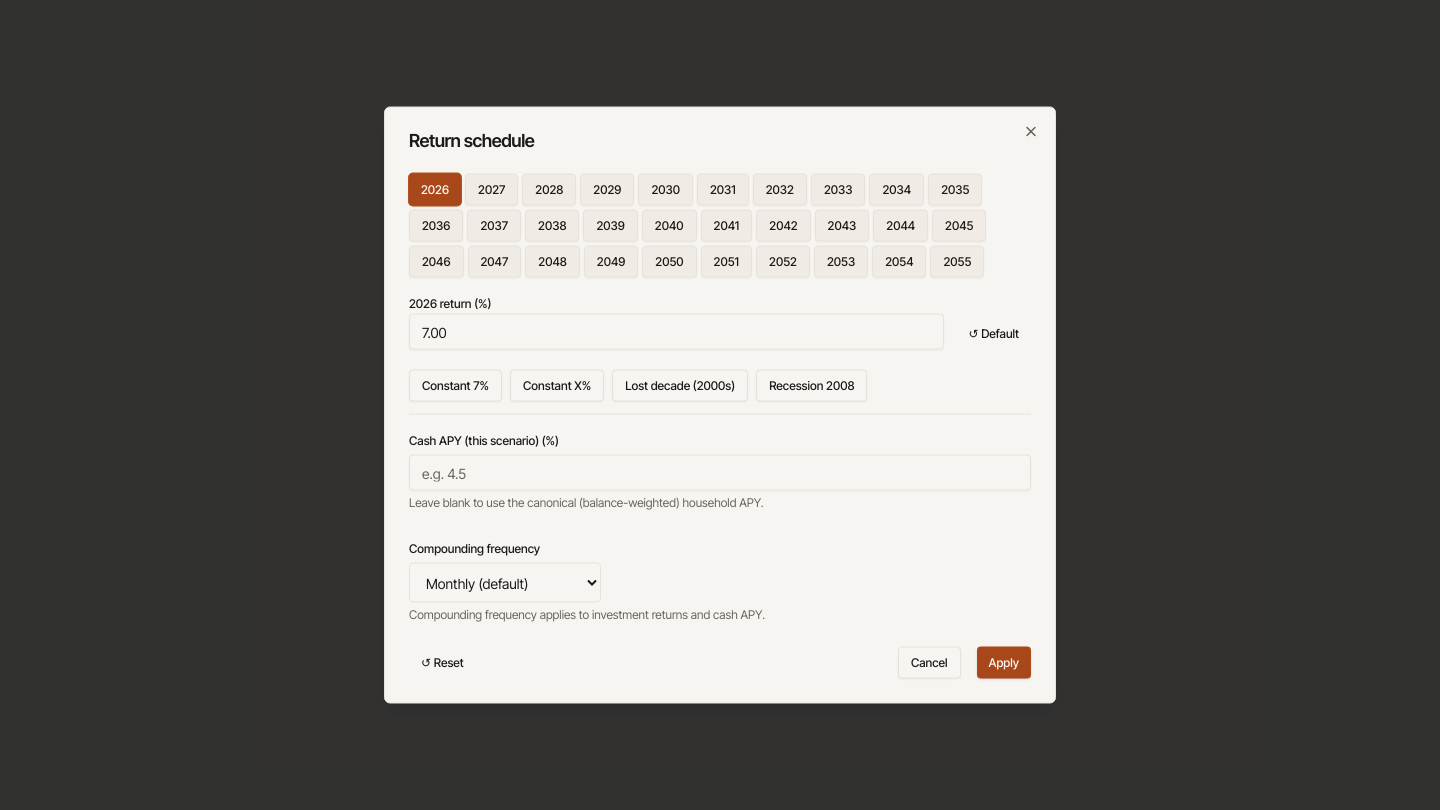
Scenario: ReturnSchedulePopover › clicking a year cell selects it and the input edits that year
Click the button "2028".
click(549, 190)  # box x1=522 y1=174 x2=576 y2=206
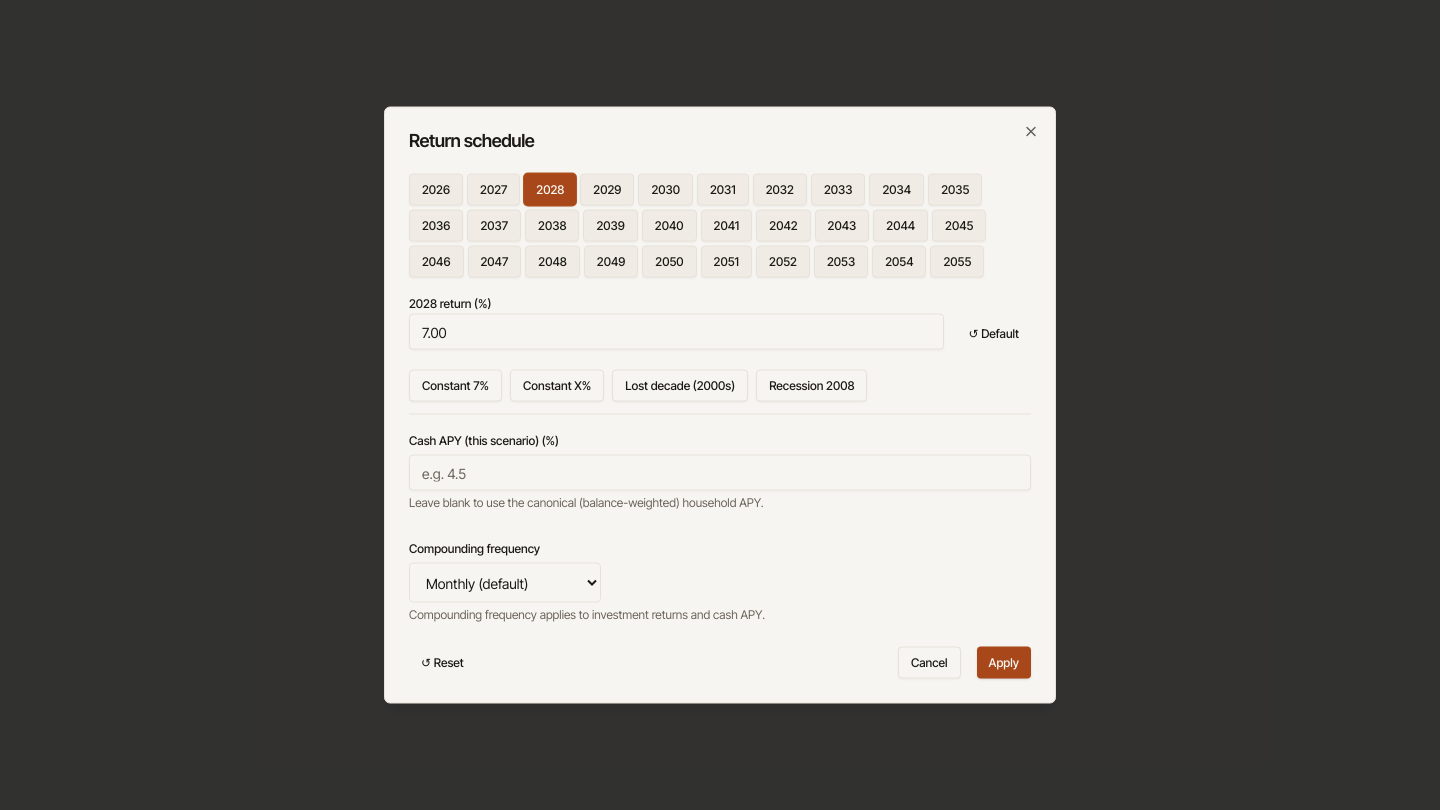
Replace the text in the number field named "selected year return" with "15" at (677, 332), box x1=409 y1=314 x2=944 y2=350
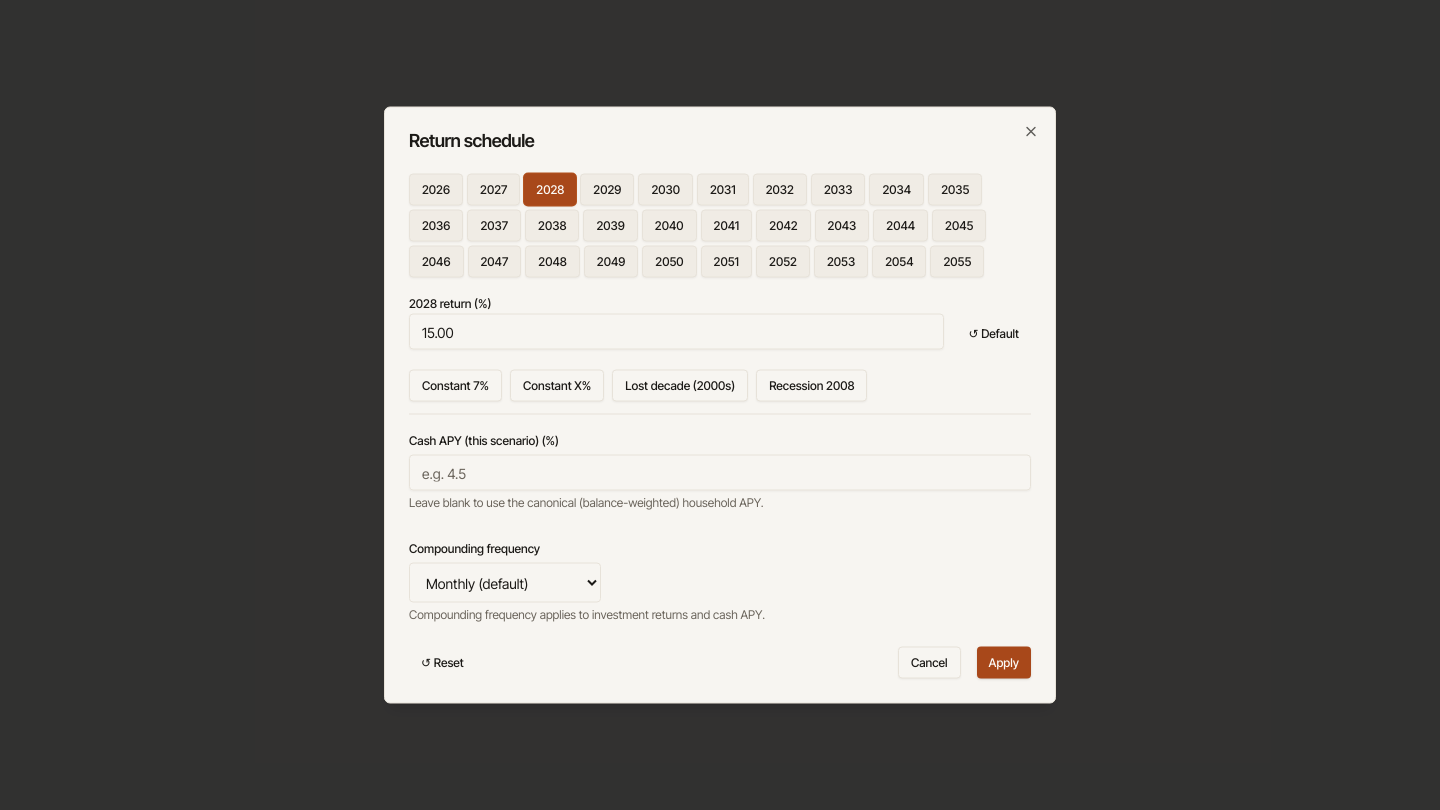
Result: the number field named "selected year return" holds "15.00" at x1=409 y1=314 x2=944 y2=350
